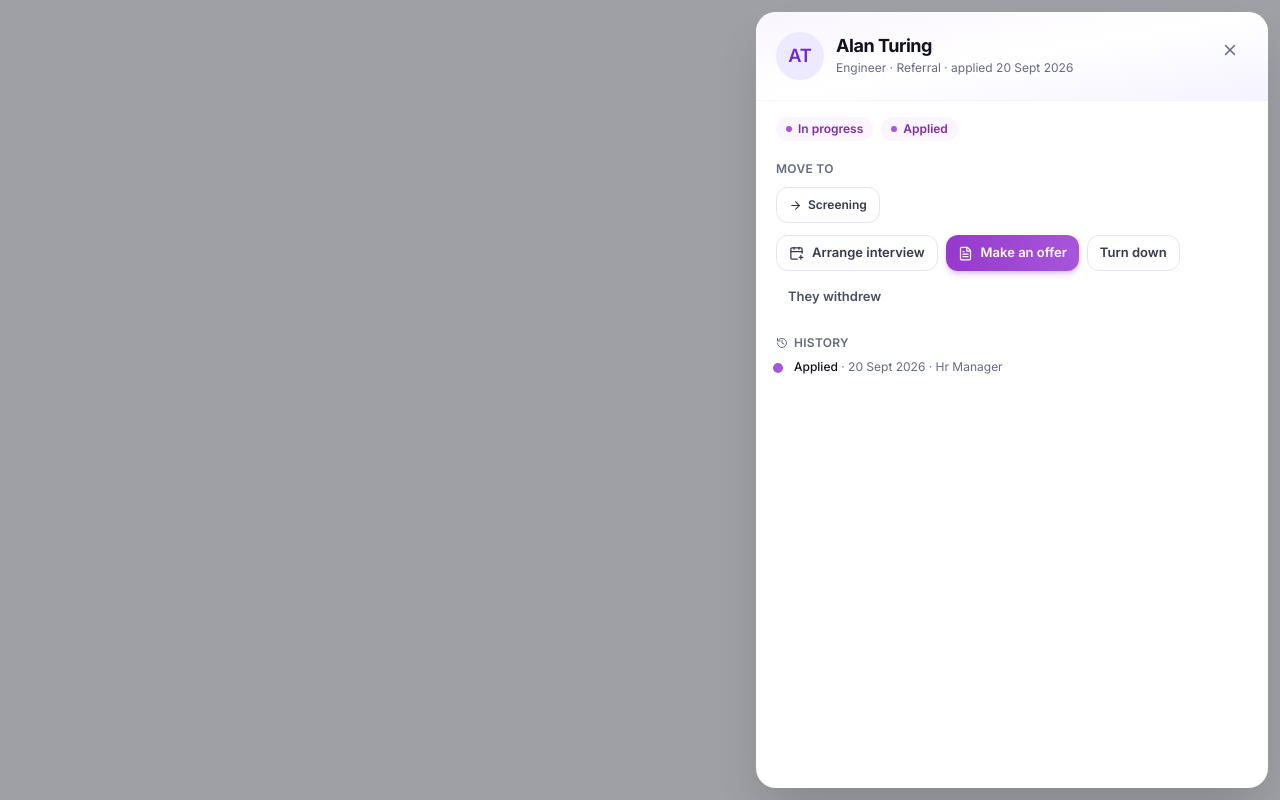
Test: ApplicationPanel › offers › says the salary has to sit inside the approved band
Click the button "Make an offer": (1012, 253) left=946, top=235, right=1079, bottom=271
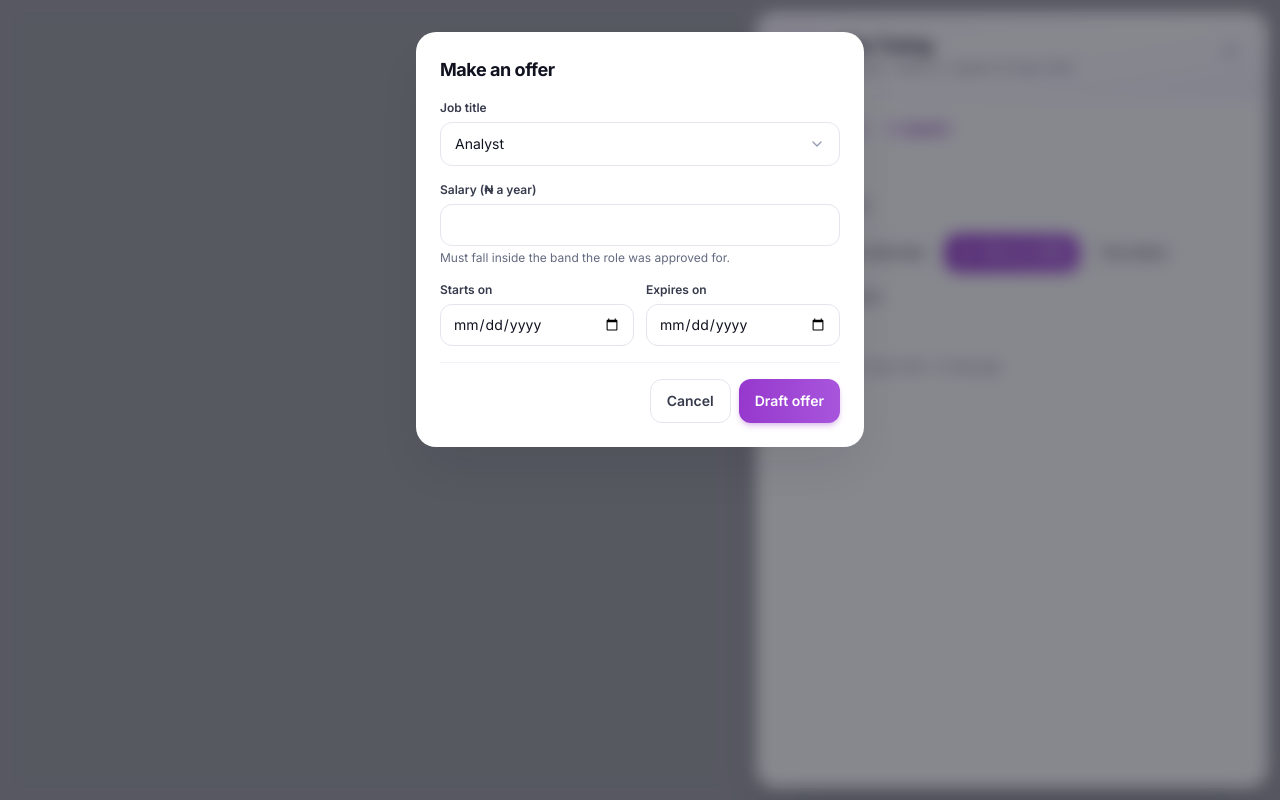
Expected: the text "Must fall inside the band the role was approved for." is shown, left=440, top=250, right=730, bottom=265
